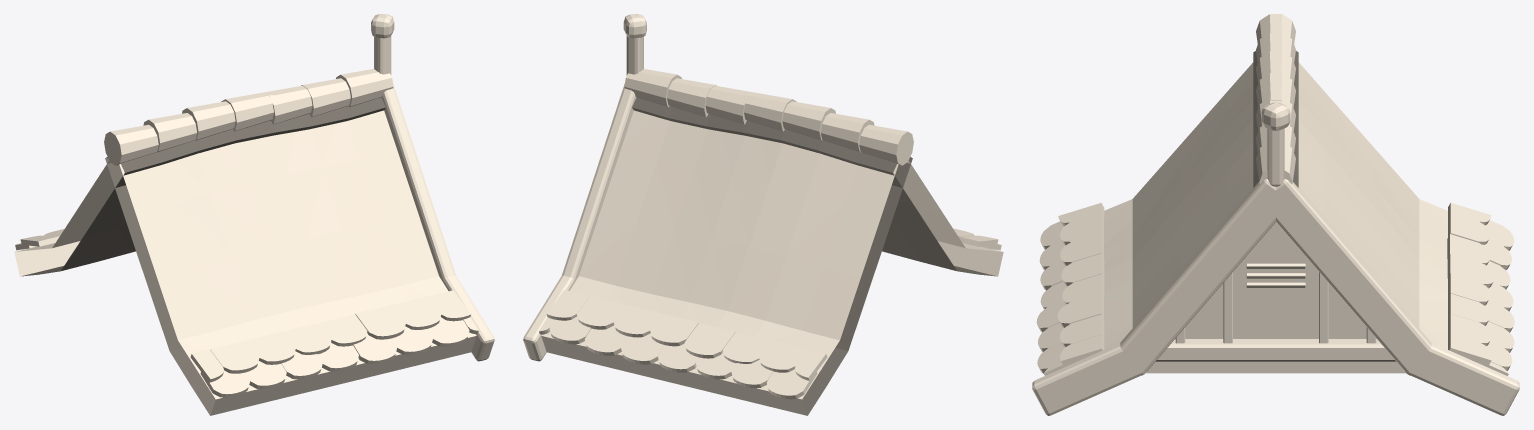
Rendered from SM_VK_WatRoofS_Gable.fbx.
The picture shows the model from 3 angles, left to right: view 1: azimuth 30°, elevation 25°; view 2: azimuth 150°, elevation 25°; view 3: azimuth 270°, elevation 25°; orthographic projection. The views are drawn at different scales.
Visible parts, largest first — view 1: SM_VK_WatRoofS_Gable.001; view 2: SM_VK_WatRoofS_Gable.001; view 3: SM_VK_WatRoofS_Gable.001.
Part boxes in pixels (bbox=[...]): SM_VK_WatRoofS_Gable.001: bbox=[14, 14, 494, 415]; SM_VK_WatRoofS_Gable.001: bbox=[523, 14, 1003, 415]; SM_VK_WatRoofS_Gable.001: bbox=[1032, 14, 1519, 415].
Size of the model in its own units: 3.86 by 3.56 by 5.1.
